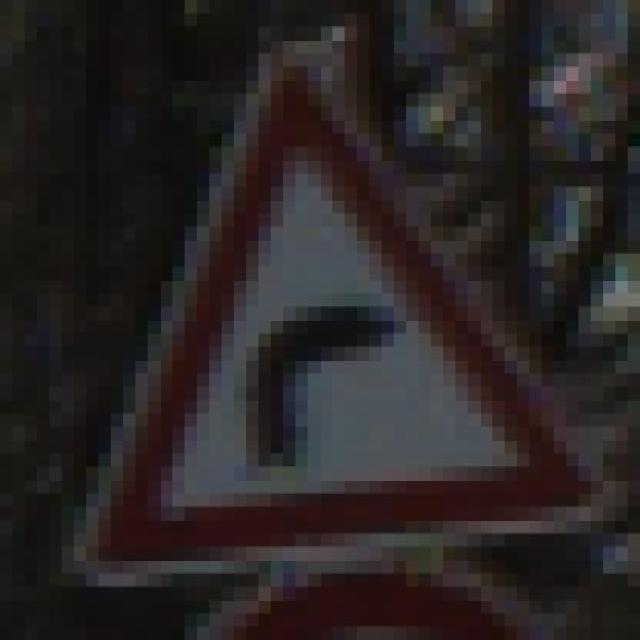Dangerous Rright Curve Ahead: (49, 53, 616, 601)
